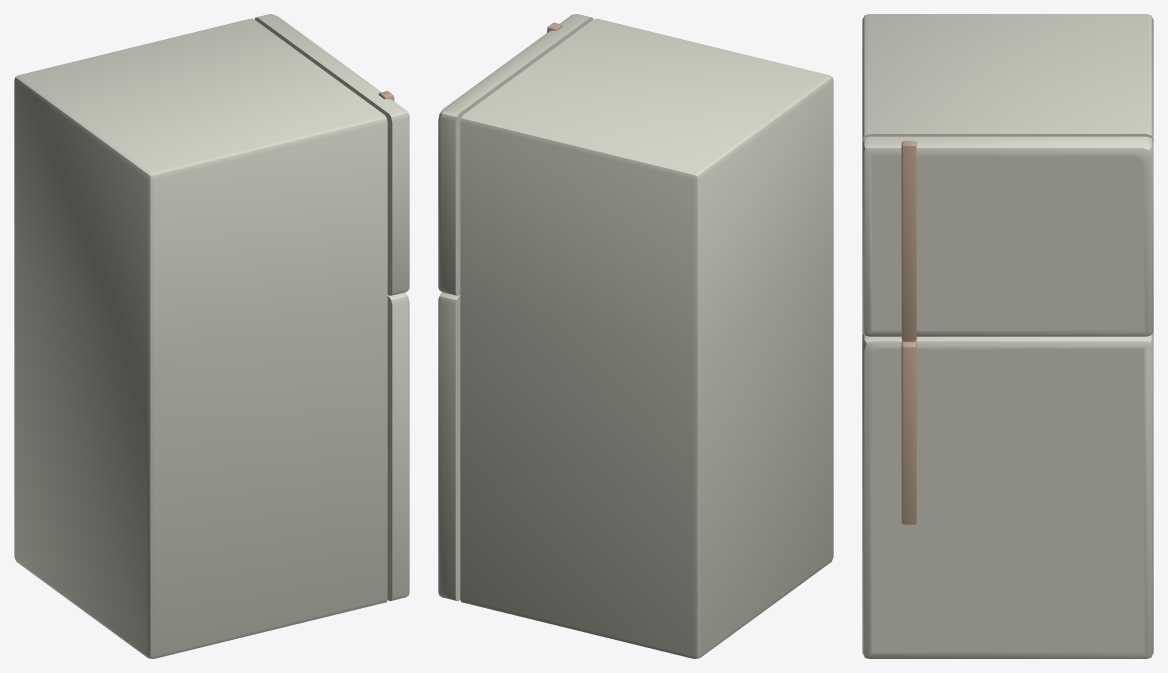
Rendered from MP_Prebuilt_Fridge.fbx.
3 views of the same model, side by side, from view 1: azimuth 30°, elevation 25°; view 2: azimuth 150°, elevation 25°; view 3: azimuth 270°, elevation 25° (orthographic). The views are drawn at different scales.
Parts seen in each view (by area): view 1: Fridge_Body; view 2: Fridge_Body; view 3: Fridge_Body.
Boxes of the visible parts, <box> form: Fridge_Body: <box>14,14,409,658</box>; Fridge_Body: <box>438,14,833,658</box>; Fridge_Body: <box>862,14,1153,658</box>.
Bounding box in the file's own units: 77.94 × 133 × 67.99.
